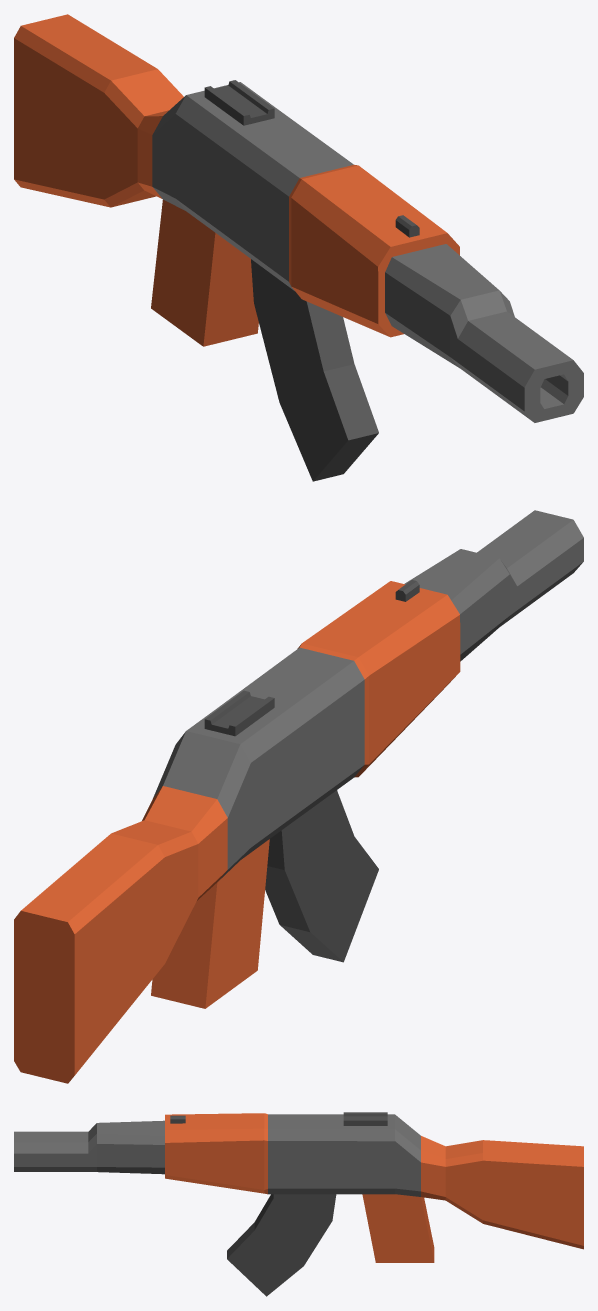
Rendered from weapon_rf0 - ak47.fbx.
3 views of the same model, one above another, from view 1: azimuth 30°, elevation 25°; view 2: azimuth 150°, elevation 25°; view 3: azimuth 270°, elevation 25° (orthographic). The views are drawn at different scales.
Visible parts, largest first — view 1: rf0.main, rf0.magazine, rf0.sight-b; view 2: rf0.main, rf0.magazine, rf0.sight-b; view 3: rf0.main, rf0.magazine, rf0.sight-b.
Part boxes in pixels (x1,y1,x2,y2): rf0.main: [14, 14, 583, 422]; rf0.magazine: [251, 259, 378, 481]; rf0.sight-b: [204, 80, 274, 125]; rf0.main: [14, 510, 583, 1083]; rf0.magazine: [265, 790, 378, 962]; rf0.sight-b: [204, 690, 274, 736]; rf0.main: [14, 1113, 583, 1262]; rf0.magazine: [227, 1194, 336, 1296]; rf0.sight-b: [343, 1112, 387, 1125].
Bounding box in the file's own units: 36.19 × 133 × 390.
